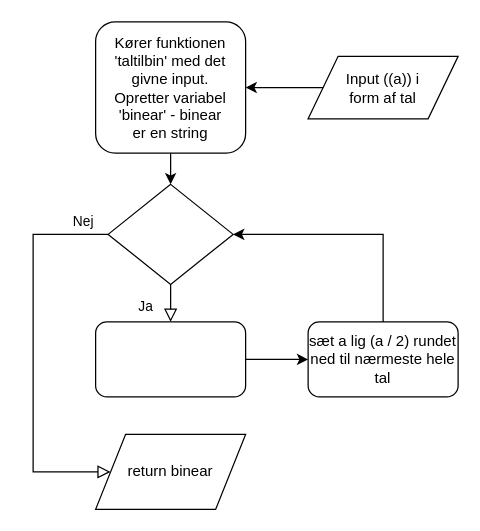
The diagram is 480 pixels wide and 531 high, and some of its shapes have lost their labels. The centre of each missing label's shape, as x and y in pixels:
Er 'a' højere end 0?: the point at 170,233
find rest af a/2 og lig til variabel: the point at 170,359
